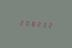eight: (30, 19, 35, 27)
three: (42, 20, 47, 28)
two: (17, 18, 22, 26), (36, 20, 41, 28), (48, 21, 53, 29)
zero: (23, 18, 28, 27)
